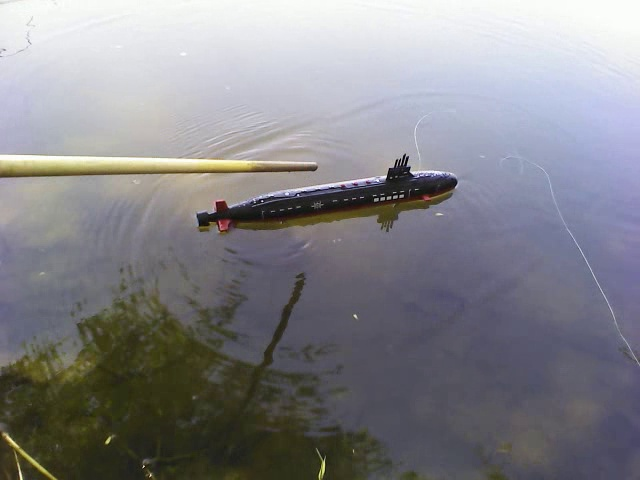submarine: (192, 153, 461, 233)
